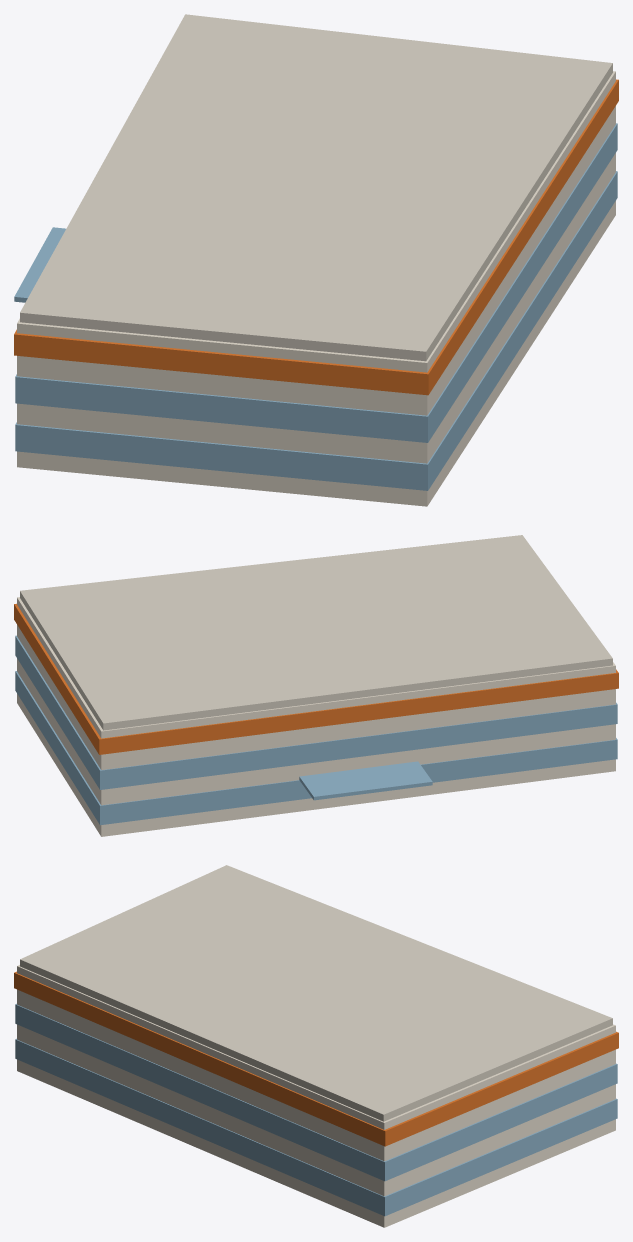
File: junction_8.glb
3 views of the same model, one above another, from view 1: azimuth 30°, elevation 25°; view 2: azimuth 150°, elevation 25°; view 3: azimuth 270°, elevation 25° (orthographic). The views are drawn at different scales.
Visible parts, largest first — view 1: part; view 2: part; view 3: part.
Part boxes in pixels (x1=…): part: x1=14, y1=14, x2=618, y2=506; part: x1=14, y1=535, x2=618, y2=836; part: x1=14, y1=865, x2=618, y2=1227.
Bounding box in the file's own units: 2558091 × 524110 × 2567808.
